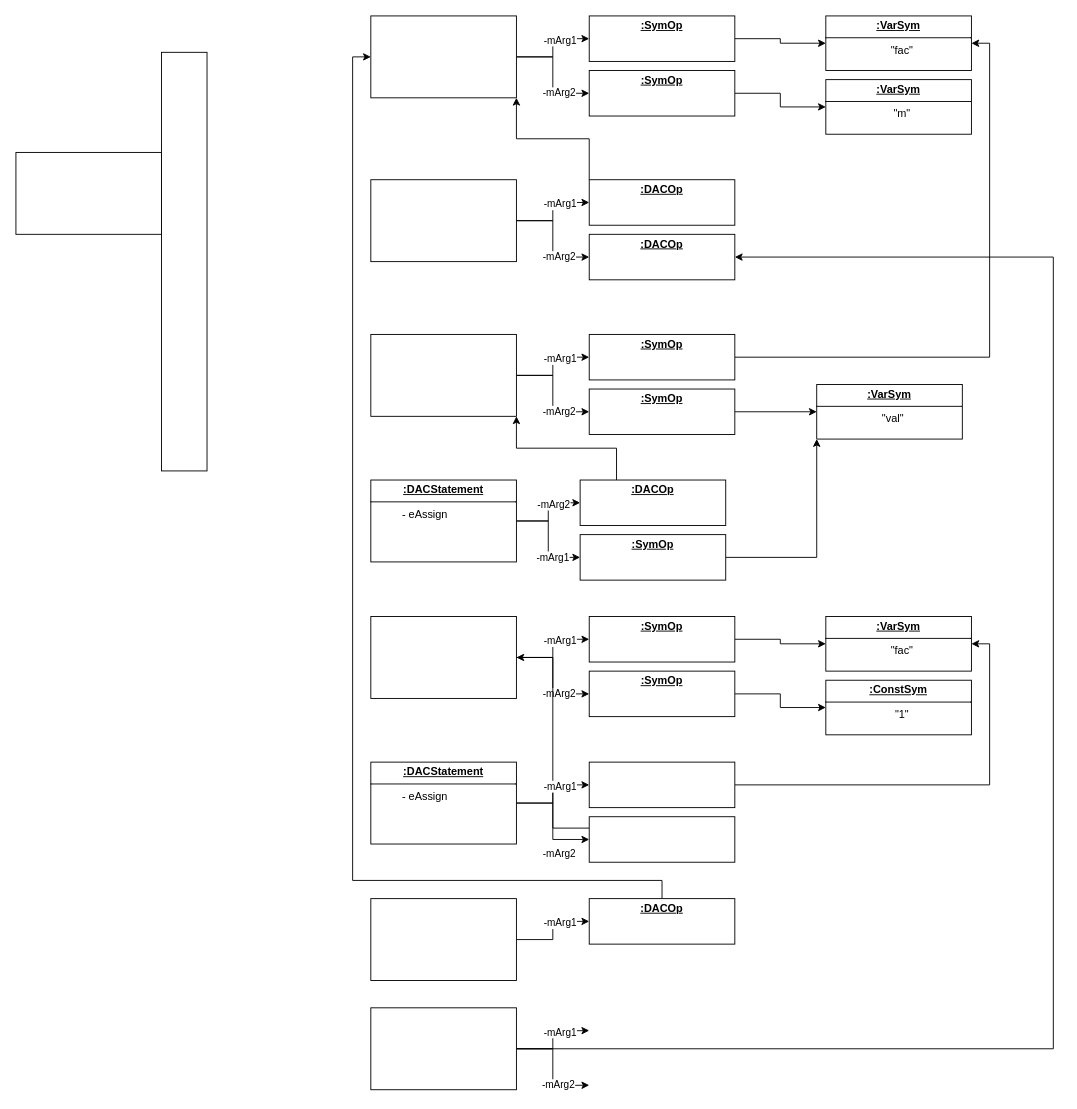
Image size: 1077x1109. Some labels were removed from this diagram. Each missing label, with the centre of its shape:
":DACGenerator" goes at (88,193).
":DACOp eAdd" goes at (661,839).
":DACStatement - eAdd" goes at (443,657).
":DACStatement - eExit" goes at (443,1048).
":DACStatement - eIfFalseImp" goes at (443,220).
":DACStatement - eJump" goes at (443,939).
":DACStatement - eLessEq" goes at (443,56).
":DACStatement - eMul" goes at (443,375).
":DACSym" goes at (661,784).
